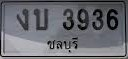txt05: (15, 8, 30, 32)
txt21: (32, 8, 49, 31)
